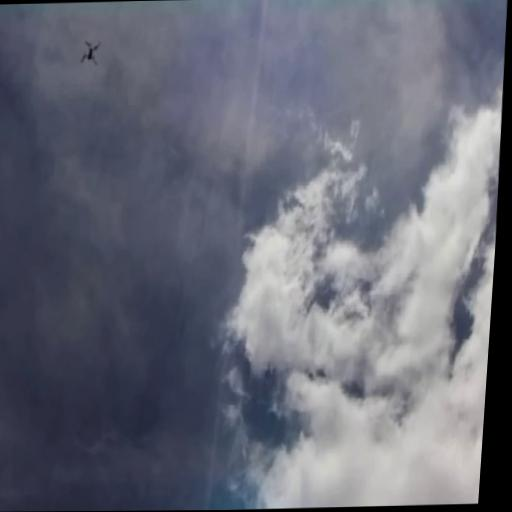drones: (78, 33, 107, 71)
